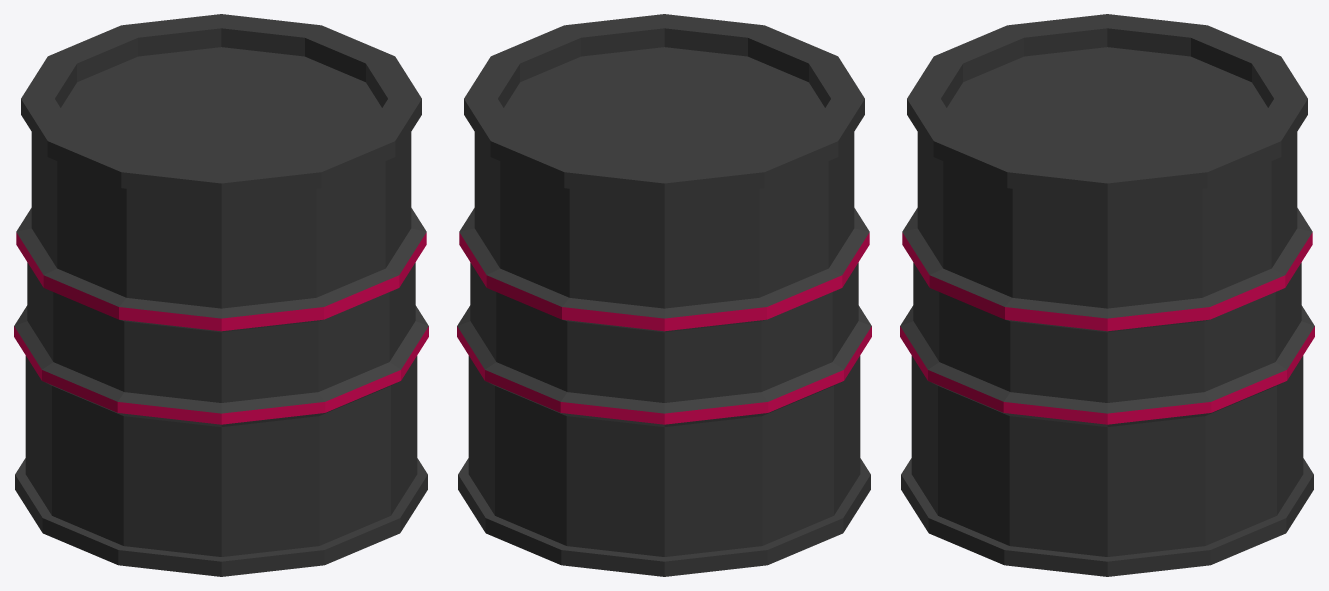
File: Barrel.fbx
The picture shows the model from 3 angles, left to right: view 1: azimuth 30°, elevation 25°; view 2: azimuth 150°, elevation 25°; view 3: azimuth 270°, elevation 25°; orthographic projection.
Parts seen in each view (by area): view 1: pCylinder1; view 2: pCylinder1; view 3: pCylinder1.
Boxes of the visible parts, box(x1,y1,x2,y2) form: pCylinder1: box(14, 14, 428, 576); pCylinder1: box(457, 14, 871, 576); pCylinder1: box(900, 14, 1314, 576).
Bounding box in the file's own units: 2.12 × 2.2 × 2.12.
